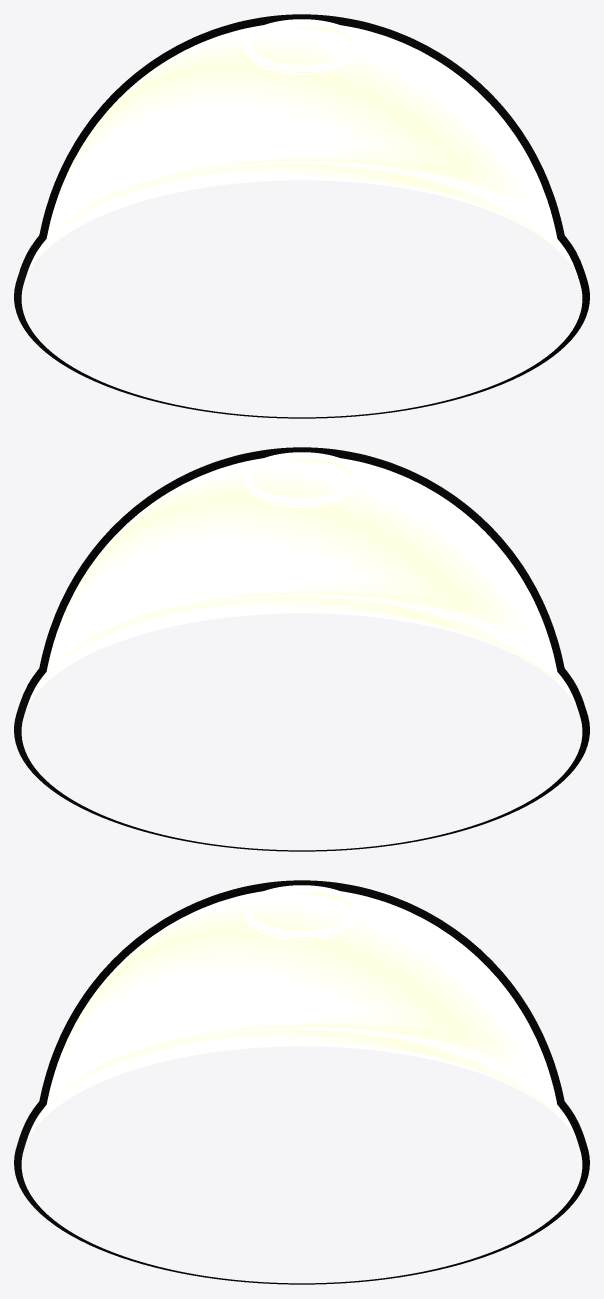
File: lid.glb
3 views of the same model, one above another, from view 1: azimuth 30°, elevation 25°; view 2: azimuth 150°, elevation 25°; view 3: azimuth 270°, elevation 25° (orthographic).
Visible parts, largest first — view 1: lid; view 2: lid; view 3: lid.
Boxes of the visible parts, x1=… form: lid: x1=14, y1=14, x2=589, y2=418; lid: x1=14, y1=447, x2=589, y2=851; lid: x1=14, y1=880, x2=589, y2=1284.
Size of the model in its own units: 2.14 by 1.05 by 2.14.
